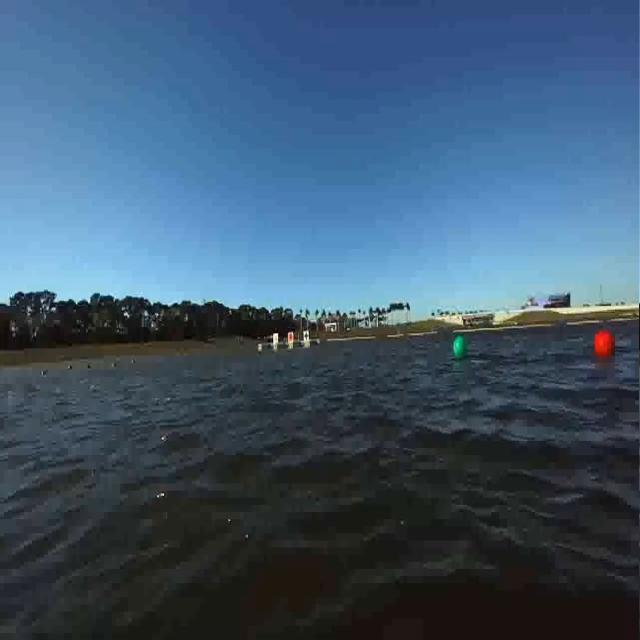green-buoy: (450, 336, 466, 361)
red-buoy: (594, 331, 615, 361)
